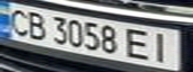0: (63, 17, 84, 48)
3: (45, 13, 69, 46)
5: (81, 19, 103, 52)
8: (100, 22, 124, 56)
B: (21, 9, 51, 40)
C: (3, 6, 30, 37)
E: (124, 26, 157, 61)
I: (148, 29, 181, 64)
